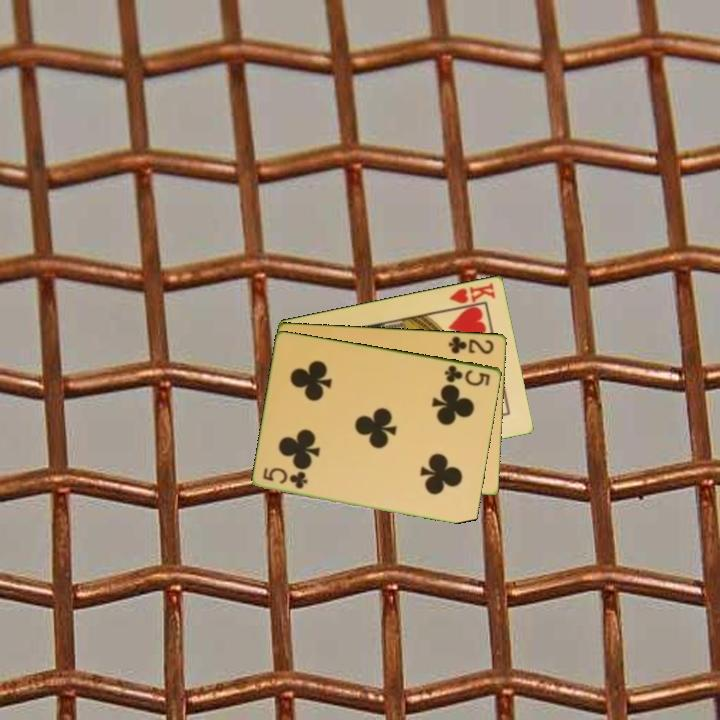2c: (445, 332, 497, 357)
5c: (441, 361, 493, 389), (260, 464, 311, 492)
Kh: (445, 279, 498, 312)
